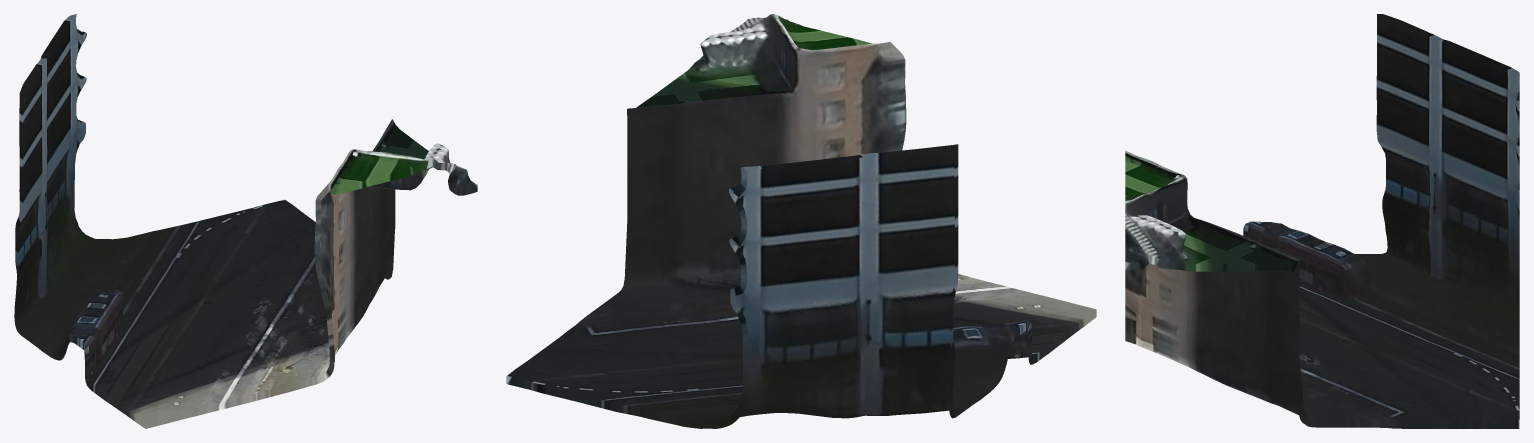
The model's file is z20-167790-405227-h0-yup-uvflip-v3-world.glb.
3 renders of one model, left to right at view 1: azimuth 30°, elevation 25°; view 2: azimuth 150°, elevation 25°; view 3: azimuth 270°, elevation 25°, orthographic. The views are drawn at different scales.
Bounding box in the file's own units: 30.16 × 21.28 × 30.32.
Materials: 1 (1 with a texture image).
